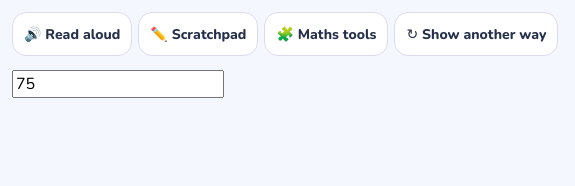
Scenario: switches one alternate strategy at a time without touching the answer field
Click the button "↻ Show another way": [476, 34] box [394,12,558,56]
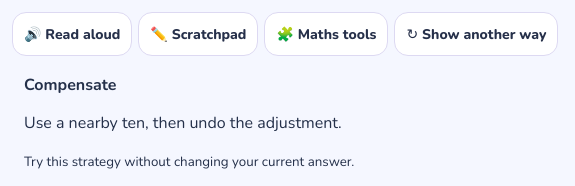
expect the text "Compensate" is shown: met, box [24,74,116,96]
